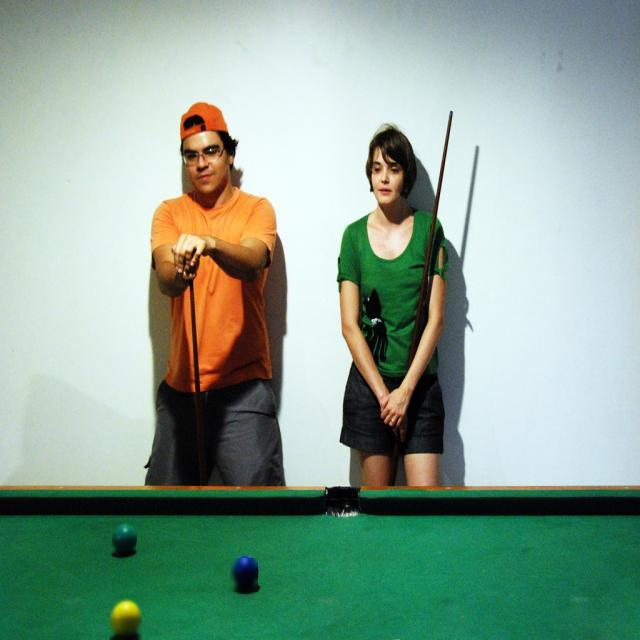Ball: (110, 598, 142, 640), (230, 558, 258, 592), (112, 522, 136, 553)
Billiard table: (0, 487, 639, 639)
